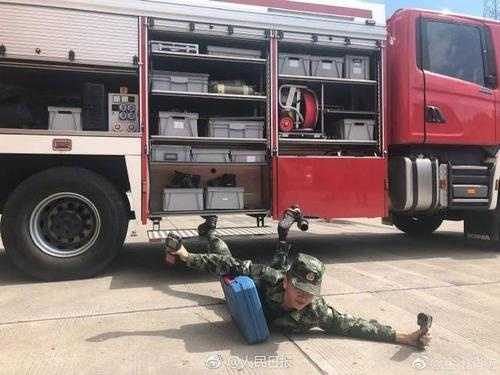falling: (155, 183, 444, 360)
